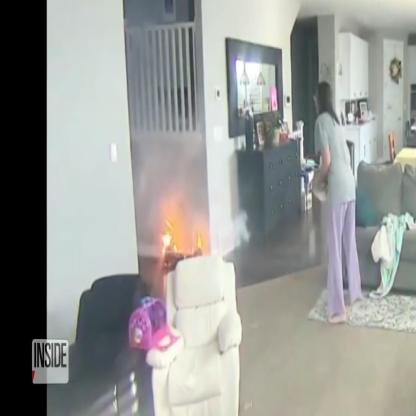fire: (162, 220, 177, 256), (198, 232, 203, 250)
